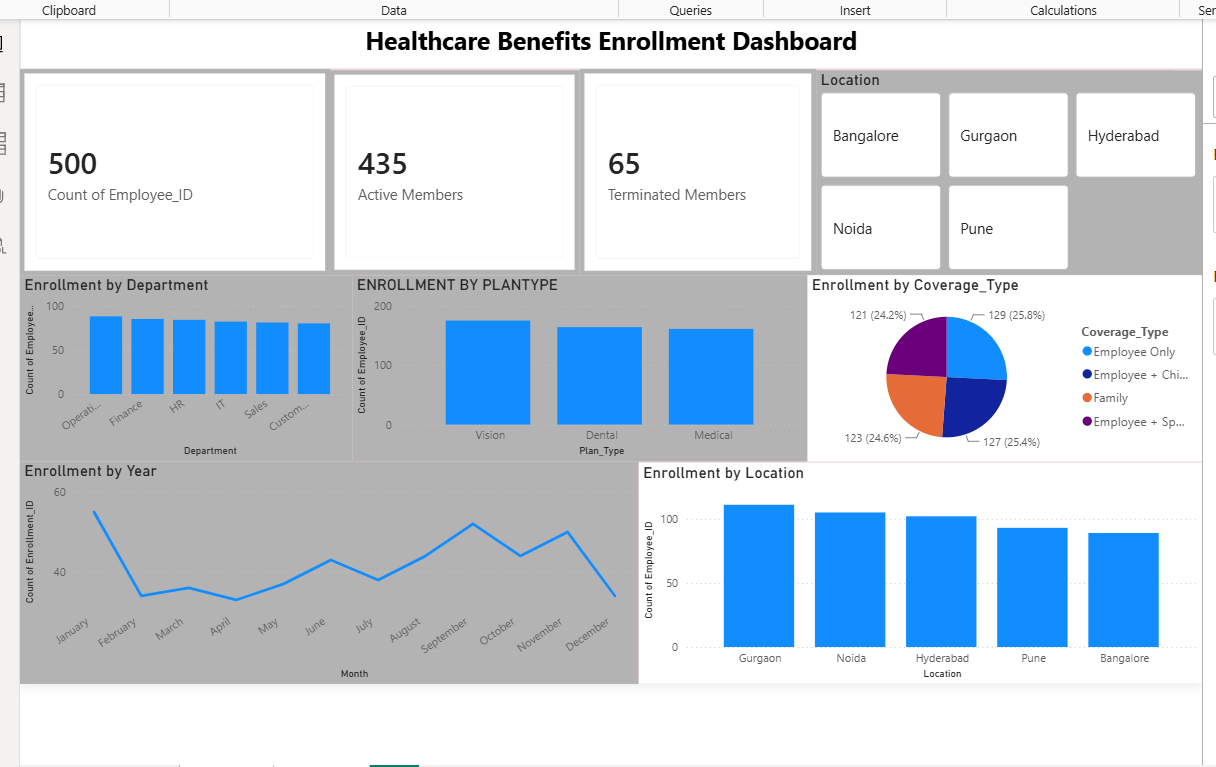

Layout of this report page (visuals, bound fields, positions):
{"tool":"powerbi","page":{"name":"Page 1","canvas":[1280,720],"ordinal":0},"visuals":[{"type":"textbox","box":[0,0,1280.3,53.5],"z":0},{"type":"cardVisual","fields":{"Data":["Count(Employee_Master.Employee_ID)"]},"box":[0,54.1,335.6,223.3],"z":1000},{"type":"cardVisual","fields":{"Data":["Benefits_Enrollment.Active Members"]},"box":[335.6,55.5,270.7,222],"z":2000},{"type":"cardVisual","fields":{"Data":["Benefits_Enrollment.Terminated Members"]},"box":[606.3,54.1,255.8,223.3],"z":3000},{"type":"clusteredColumnChart","title":"ENROLLMENT BY PLANTYPE","fields":{"Category":["Benefits_Enrollment.Plan_Type"],"Y":["CountNonNull(Benefits_Enrollment.Employee_ID)"]},"box":[360,277.4,492.6,201.7],"z":4000},{"type":"pieChart","title":"Enrollment by Coverage_Type","fields":{"Category":["Benefits_Enrollment.Coverage_Type"],"Y":["CountNonNull(Benefits_Enrollment.Employee_ID)"]},"box":[852.6,277.4,427.7,201.7],"z":5000},{"type":"clusteredColumnChart","title":"Enrollment by Department","fields":{"Category":["Employee_Master.Department"],"Y":["CountNonNull(Employee_Master.Employee_ID)"]},"box":[0,277.4,360,201.7],"z":6000},{"type":"clusteredColumnChart","title":"Enrollment by Location","fields":{"Category":["Employee_Master.Location"],"Y":["CountNonNull(Employee_Master.Employee_ID)"]},"box":[669.9,480.4,610.4,239.5],"z":7000},{"type":"lineChart","title":"Enrollment by Year","fields":{"Category":["Benefits_Enrollment.Enrollment_Date.Variation.Date Hierarchy.Month"],"Y":["CountNonNull(Benefits_Enrollment.Enrollment_ID)"]},"box":[0,479.1,669.9,240.9],"z":8000},{"type":"advancedSlicerVisual","fields":{"Values":["Employee_Master.Location"]},"box":[862.1,55.5,418.2,222],"z":9000}]}

Visuals, with their boxes on the page's 1280x720 design canvas (x1, y1, x2, y2). These are canvas units, not pixel positions in the 1216x767 screenshot, which may show the page scaled, cropped or inside an application window:
textbox: bbox=[0, 0, 1280, 54]
cardVisual - Count(Employee_Master.Employee_ID): bbox=[0, 54, 336, 277]
cardVisual - Benefits_Enrollment.Active Members: bbox=[336, 56, 606, 278]
cardVisual - Benefits_Enrollment.Terminated Members: bbox=[606, 54, 862, 277]
"ENROLLMENT BY PLANTYPE" clusteredColumnChart: bbox=[360, 277, 853, 479]
"Enrollment by Coverage_Type" pieChart: bbox=[853, 277, 1280, 479]
"Enrollment by Department" clusteredColumnChart: bbox=[0, 277, 360, 479]
"Enrollment by Location" clusteredColumnChart: bbox=[670, 480, 1280, 720]
"Enrollment by Year" lineChart: bbox=[0, 479, 670, 720]
advancedSlicerVisual - Employee_Master.Location: bbox=[862, 56, 1280, 278]
